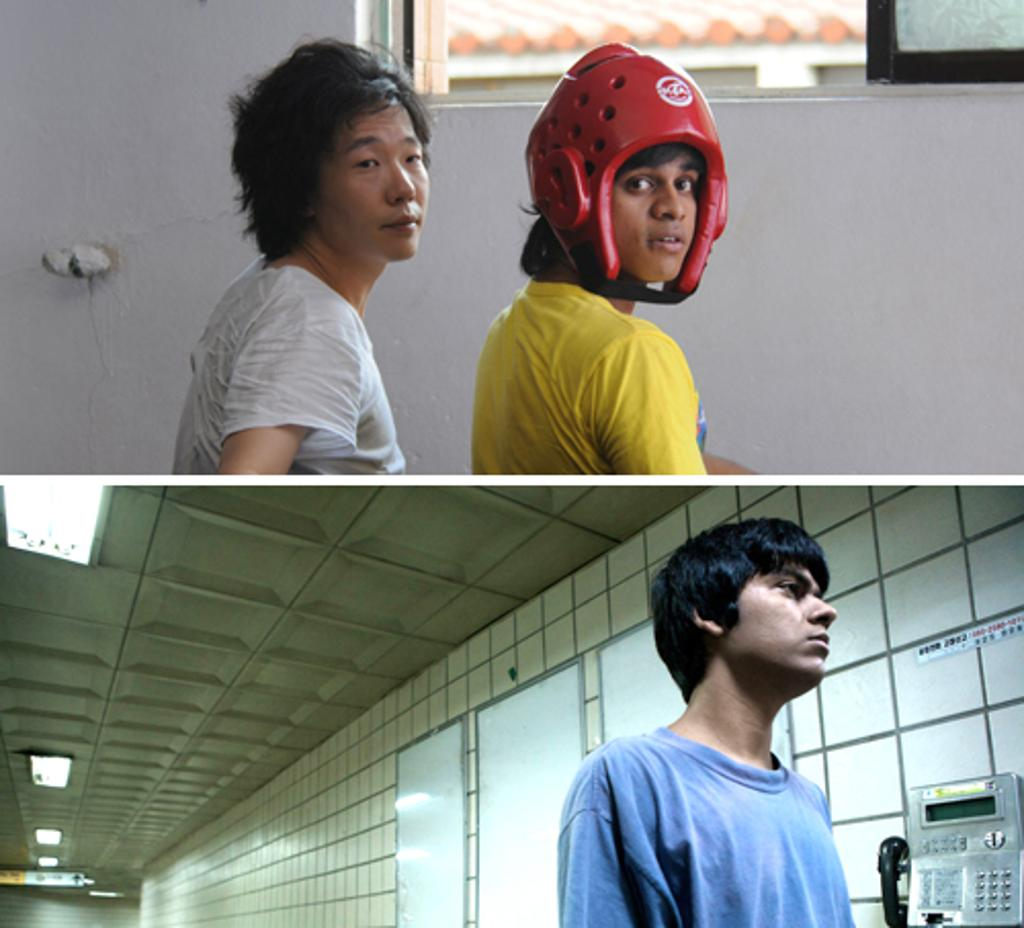face: (324, 84, 426, 252), (720, 532, 838, 676), (602, 122, 698, 270)
